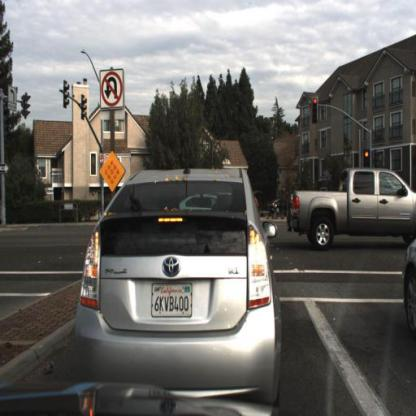car: (68, 155, 283, 397), (288, 169, 416, 255), (398, 218, 416, 349), (267, 197, 290, 216)
trafficLight-Red: (309, 91, 321, 127), (363, 148, 372, 175)
